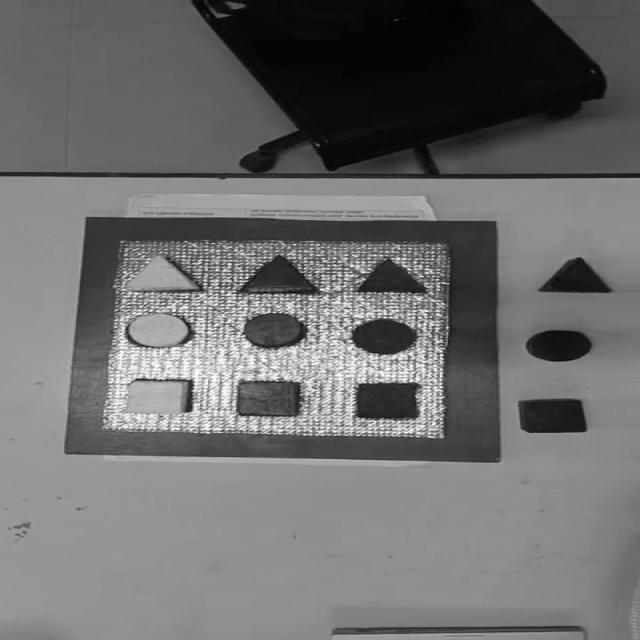bcircle: (524, 329, 593, 364)
bcube: (516, 398, 589, 433)
btriangle: (538, 256, 614, 293)
mtcircle: (350, 319, 419, 355)
mtcube: (353, 381, 424, 420)
mttriangle: (354, 257, 429, 295)
rcircle: (242, 312, 306, 348)
rcube: (236, 381, 300, 417)
rtriangle: (240, 255, 318, 293)
wb: (102, 240, 456, 439)
ycircle: (124, 311, 193, 349)
ycube: (123, 378, 192, 415)
ytriangle: (123, 252, 203, 294)
